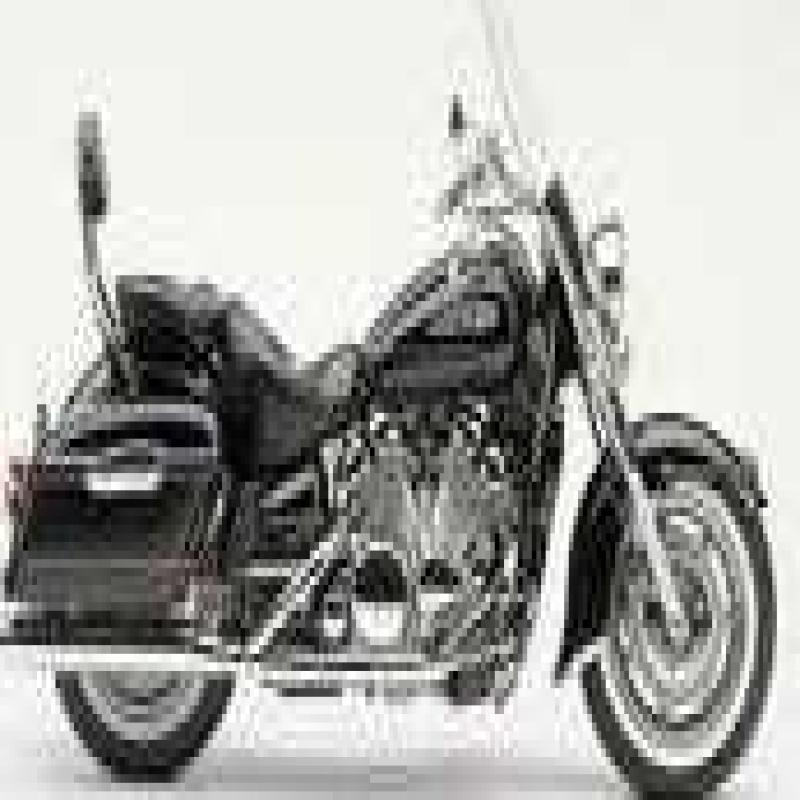bike: (14, 0, 800, 800)
